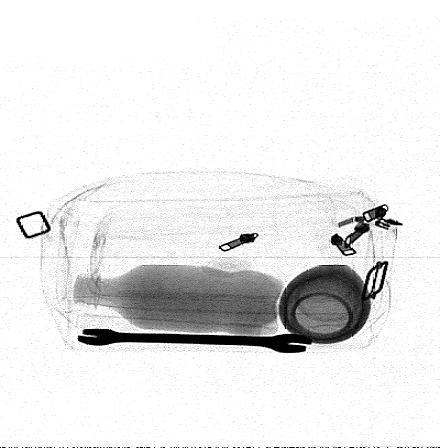Wrench: (75, 327, 315, 355)
